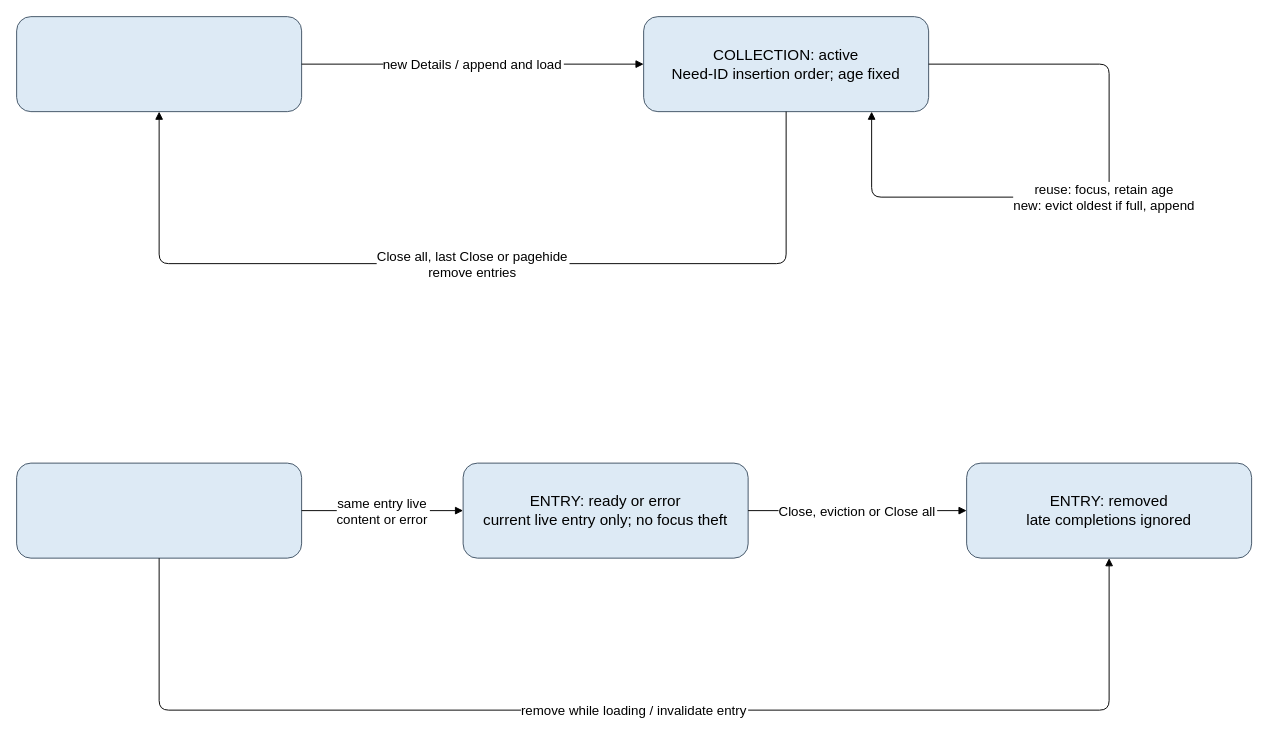
This 1268x735 diagram has some shape labels left out. The centre of each missing label's shape, as x and y in pixels:
"COLLECTION: empty per-view; configured capacity" belongs at [159,64].
"ENTRY: loading fresh identity, safe shared transport" belongs at [159,510].
